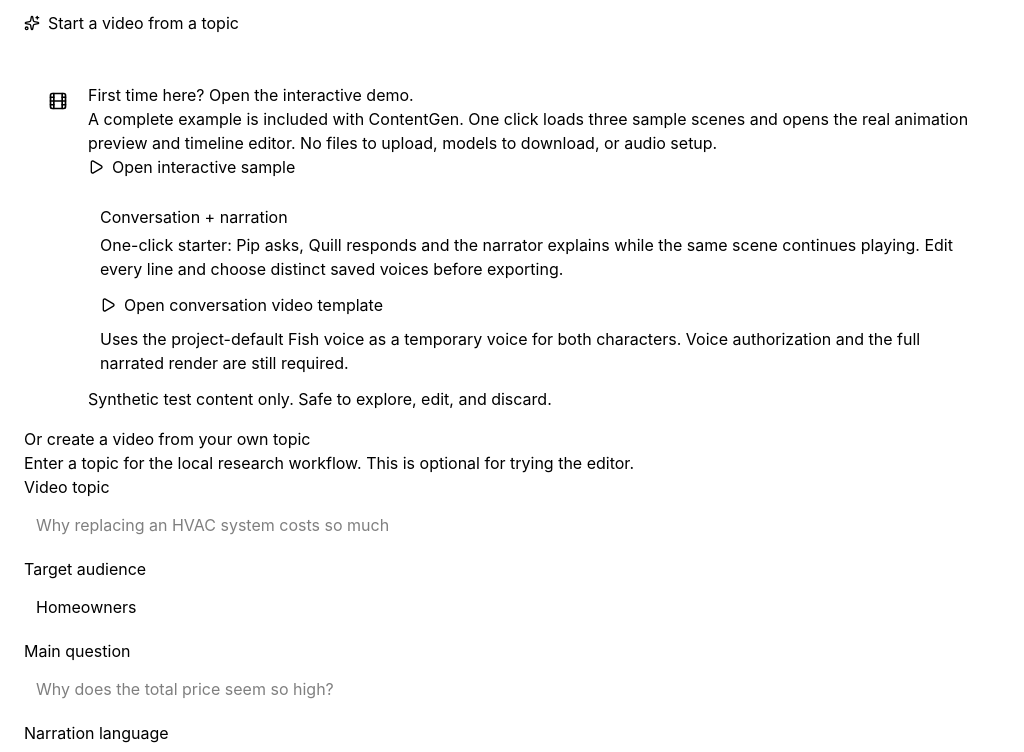
Test: topic-first production workflow › does not overlap local research when the topic changes during an in-flight request
Type "Roofs" into the field named "New video topic" at coordinates (512, 525), box [24, 505, 1000, 545]
(page scrolled)
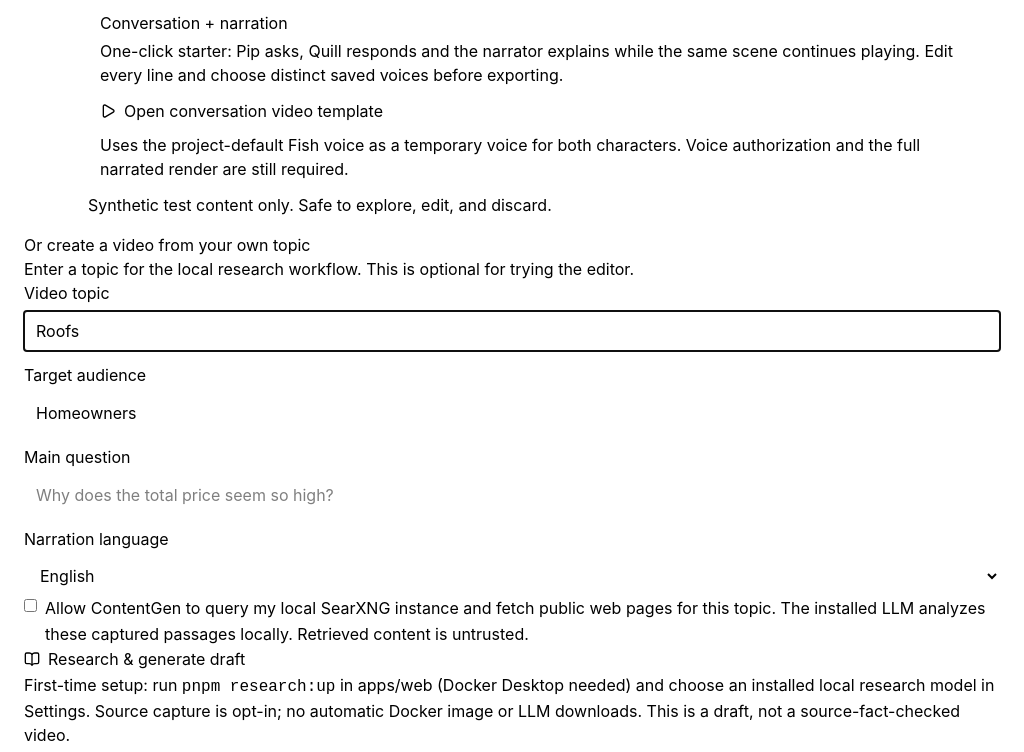
Click the checkbox named "Allow public web research" at coordinates (30, 606), box [24, 599, 37, 612]
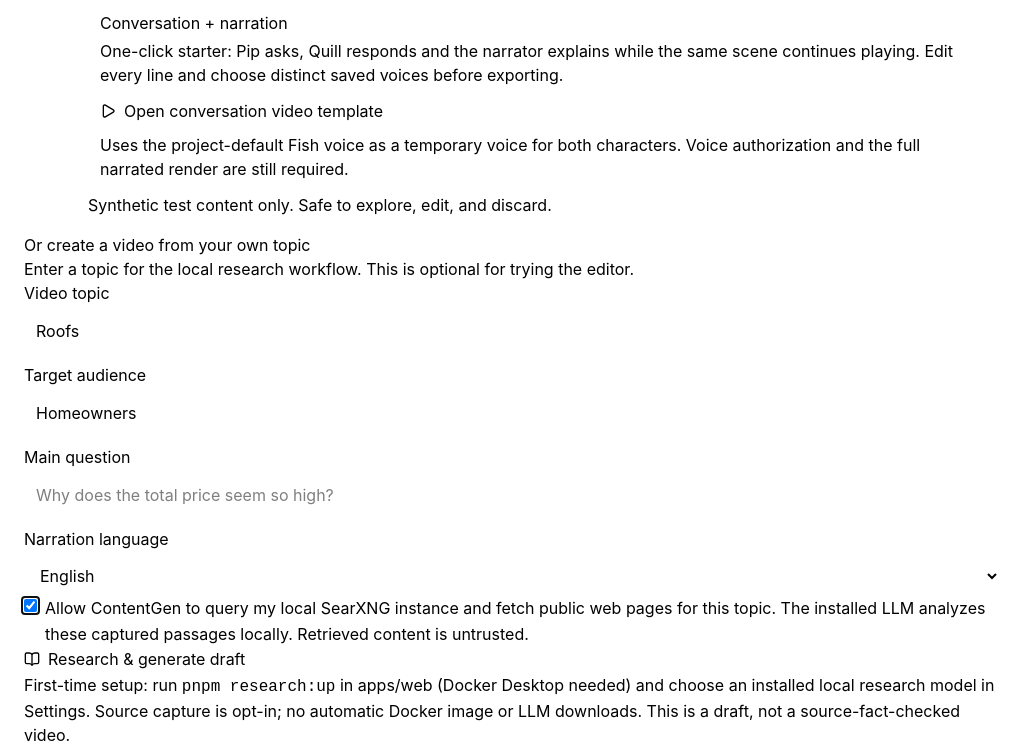
Click the button "Research & generate draft" at coordinates (135, 659), box [24, 647, 245, 671]
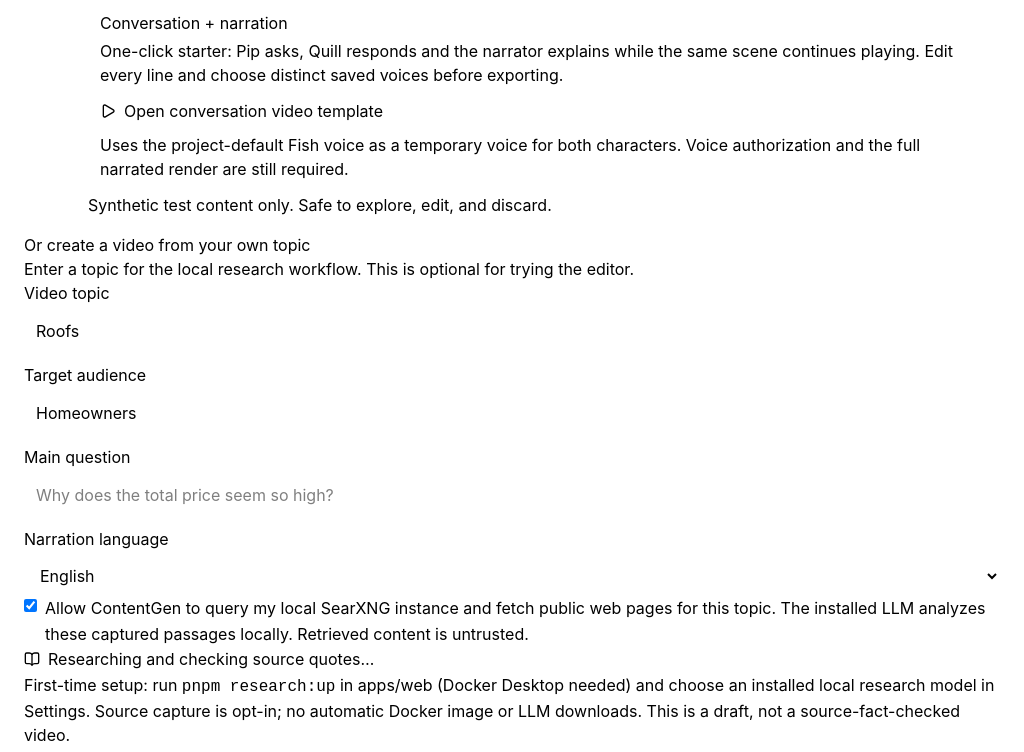
Replace the text in the field named "New video topic" with "Windows" at coordinates (512, 331), box [24, 311, 1000, 351]
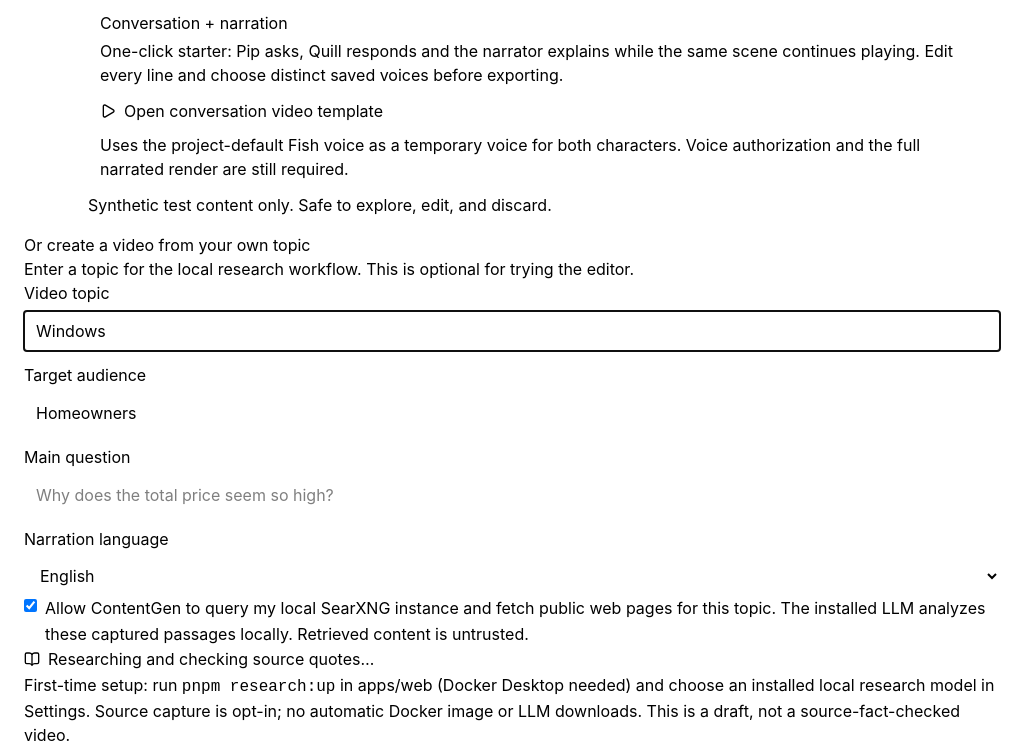
Now the button named "Research & generate draft" is disabled
Click the button named "Research & generate draft" at coordinates (199, 659), box [24, 647, 374, 671]
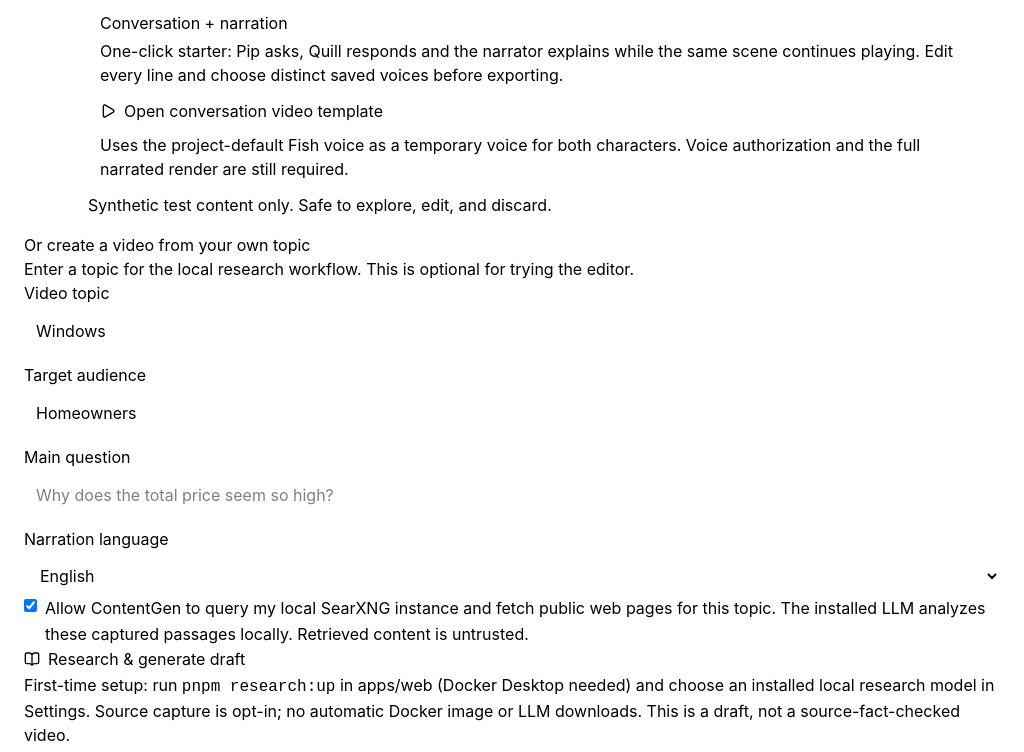
Expected: the text "New topic" is not shown
Now the button "Research & generate draft" is enabled
Click the button "Research & generate draft" at coordinates (135, 659), box [24, 647, 245, 671]
(page scrolled)
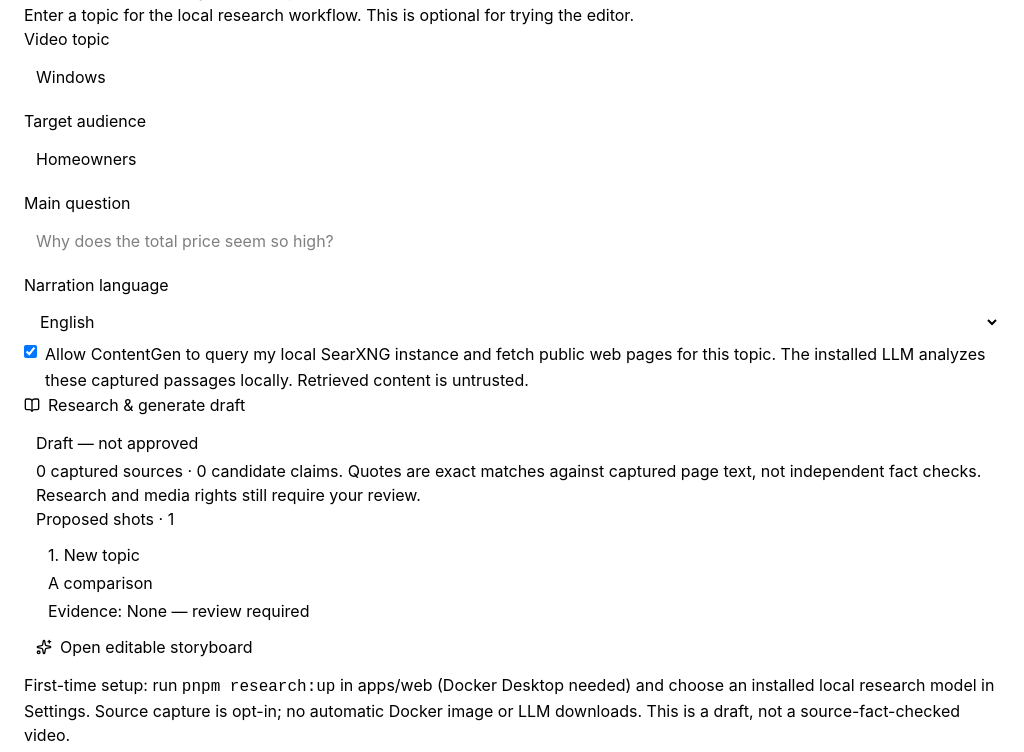
Now the text "1. New topic" is shown, box [48, 545, 140, 565]
